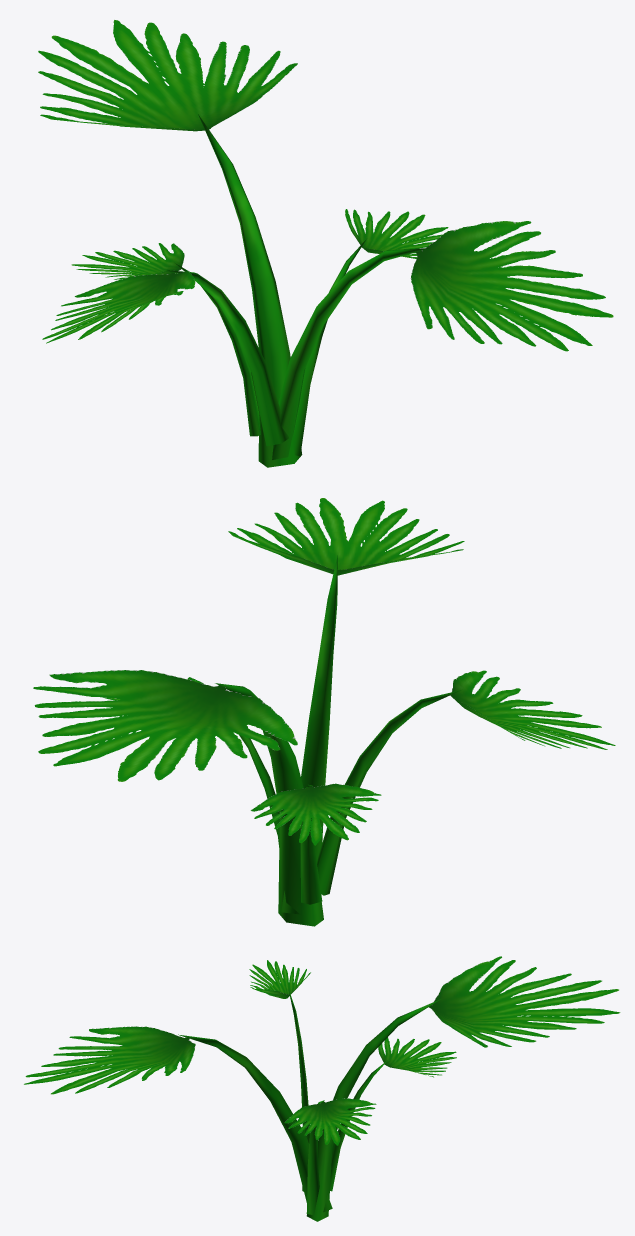
The model's file is bush10.obj.
The picture shows the model from 3 angles, top to bottom: view 1: azimuth 30°, elevation 25°; view 2: azimuth 150°, elevation 25°; view 3: azimuth 270°, elevation 25°; orthographic projection. The views are drawn at different scales.
Parts seen in each view (by area): view 1: Cylinder03, Duplicate02, Duplicate03, Duplicate04, Duplicate01; view 2: Cylinder03, Duplicate02, Duplicate03, Duplicate01, Duplicate04; view 3: Cylinder03, Duplicate02, Duplicate04, Duplicate01, Duplicate03.
Part boxes in pixels (box(x1,y1,x2,y2)): Cylinder03: box(38, 20, 302, 467); Duplicate02: box(272, 221, 613, 459); Duplicate03: box(42, 270, 288, 446); Duplicate04: box(293, 209, 448, 456); Duplicate01: box(71, 243, 260, 436); Cylinder03: box(33, 670, 323, 926); Duplicate02: box(228, 498, 464, 914); Duplicate03: box(317, 670, 615, 895); Duplicate01: box(250, 783, 381, 904); Duplicate04: box(103, 677, 279, 847); Cylinder03: box(306, 956, 620, 1221); Duplicate02: box(24, 1026, 332, 1212); Duplicate04: box(284, 1098, 376, 1215); Duplicate01: box(330, 1037, 456, 1191); Duplicate03: box(249, 960, 310, 1191).
Size of the model in its own units: 99.3 by 59.05 by 151.
